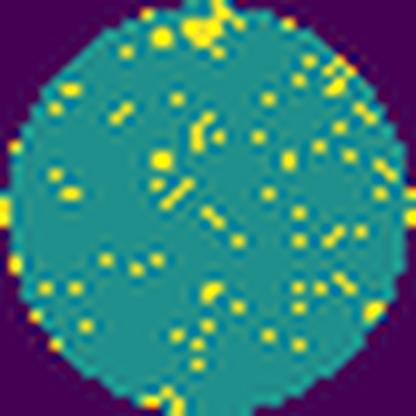Loc: (184, 5, 252, 58)
